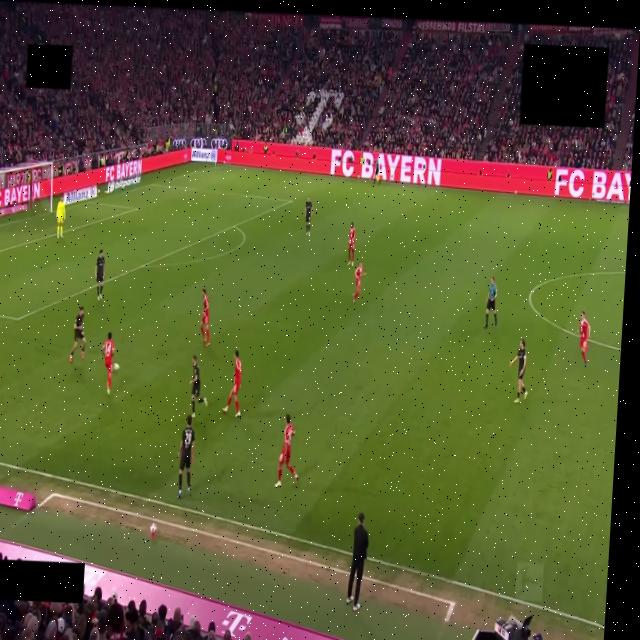ball: (113, 364, 119, 370)
player: (276, 414, 298, 487), (178, 416, 194, 497), (223, 350, 242, 418), (510, 340, 527, 403), (191, 356, 207, 417), (70, 306, 85, 362), (102, 333, 114, 395), (579, 312, 590, 364), (201, 289, 210, 346), (353, 261, 365, 303), (95, 250, 105, 300), (56, 199, 65, 238), (348, 223, 355, 265), (305, 198, 312, 236)
referee: (485, 278, 497, 327)
